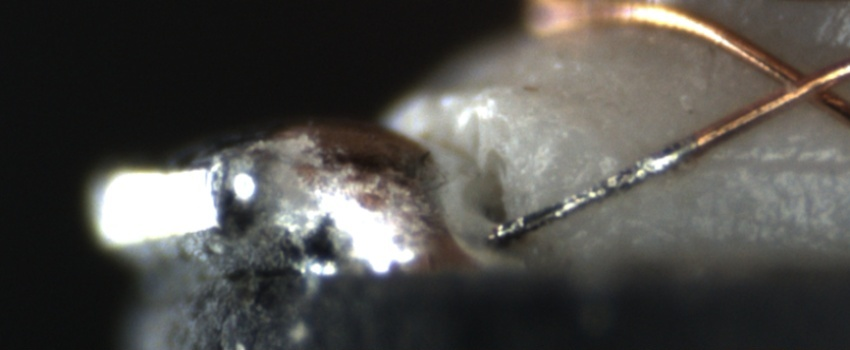CL: (755, 51, 847, 117)
DL: (686, 133, 850, 197)
TS: (495, 137, 695, 238)
